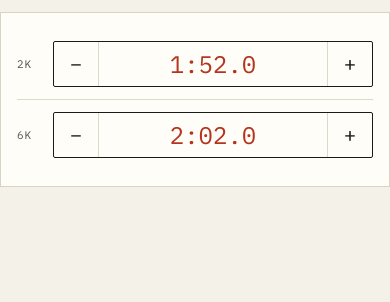
Test: the derivation offer (ui-notes round, item 2) › Apply commits only touched fields (Finding 1, tightened by PR A provenance) › retyping the server's own value, Applied, sends NOTHING — an unchanged number keeps its stored source (ORIGIN ruling)
Type "152" into the field named "2k split". click: (213, 64)
box: [107, 42, 319, 86]
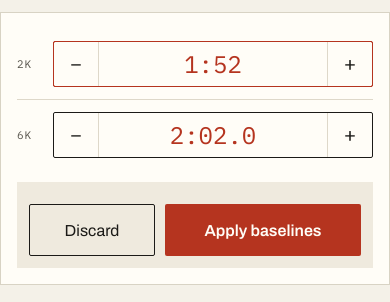
Now the button "Apply baselines" is shown
Click the button "Apply baselines". click: (263, 230)
box: [165, 204, 361, 256]
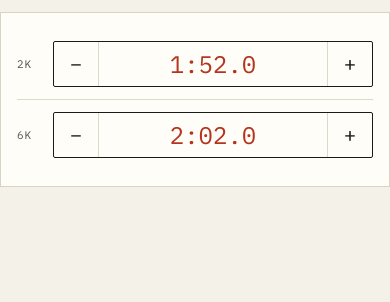
Now the button "Apply baselines" is gone
